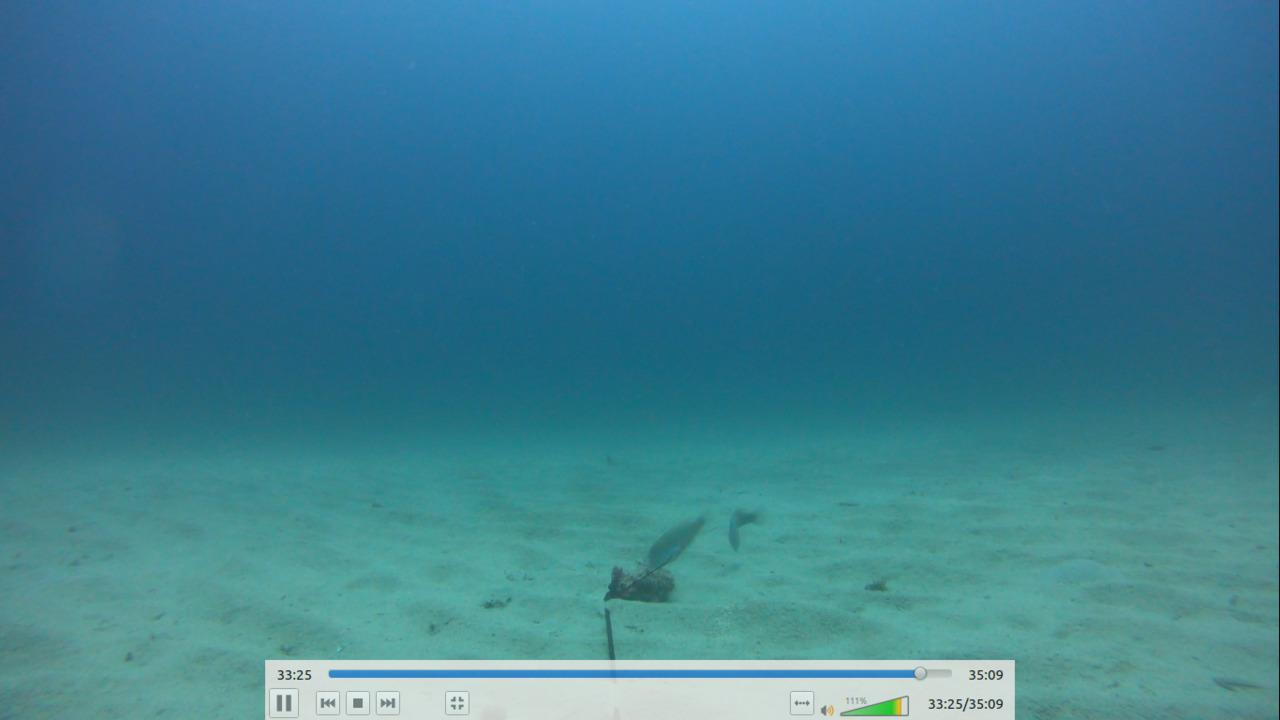raor: (642, 512, 708, 576), (719, 501, 767, 558)
